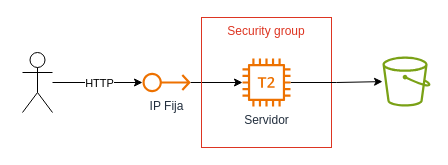
This 448x165 diagram has some shape labels left out. Each missing label, with the centre of its shape:
"Modelos" goes at [406,81].
"Usuario" goes at [37,82].
